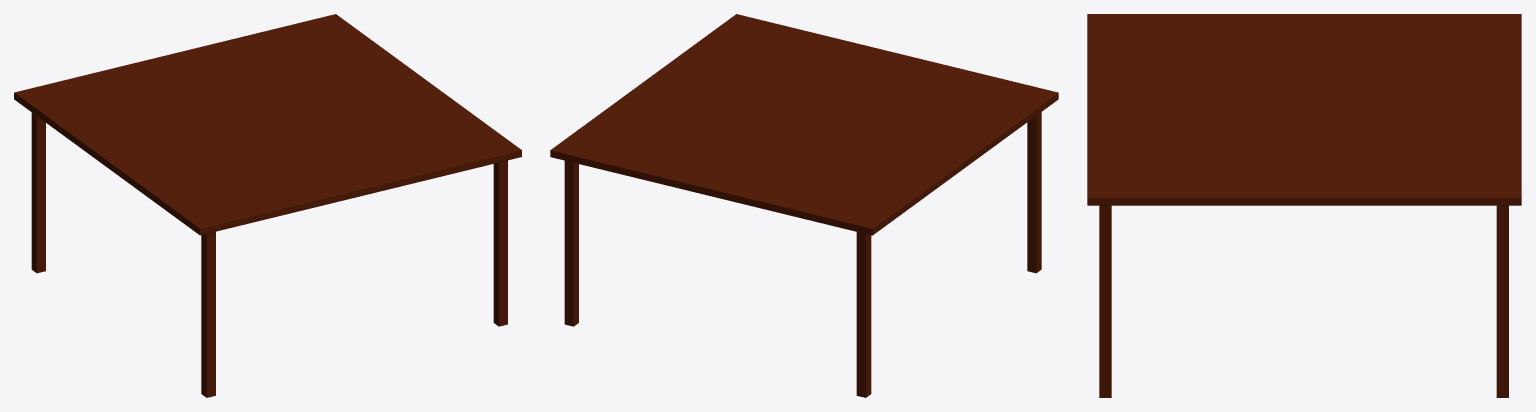
File: Mesa.fbx
The picture shows the model from 3 angles, left to right: view 1: azimuth 30°, elevation 25°; view 2: azimuth 150°, elevation 25°; view 3: azimuth 270°, elevation 25°; orthographic projection. The views are drawn at different scales.
Parts seen in each view (by area): view 1: Mesa.001, Soport3, Soporte2, Soporte.001; view 2: Mesa.001, Soporte.001, Soport4, Soporte2; view 3: Mesa.001, Soport3, Soport4.
Boxes of the visible parts, <box> form: Mesa.001: <box>14,14,521,235</box>; Soport3: <box>493,160,507,326</box>; Soporte2: <box>201,231,215,397</box>; Soporte.001: <box>31,112,45,273</box>; Mesa.001: <box>550,14,1058,235</box>; Soporte.001: <box>856,232,871,397</box>; Soport4: <box>564,160,578,326</box>; Soporte2: <box>1027,112,1041,273</box>; Mesa.001: <box>1087,14,1521,205</box>; Soport3: <box>1099,205,1111,397</box>; Soport4: <box>1496,205,1508,397</box>.
Bounding box in the file's own units: 1006 × 526 × 1006.
